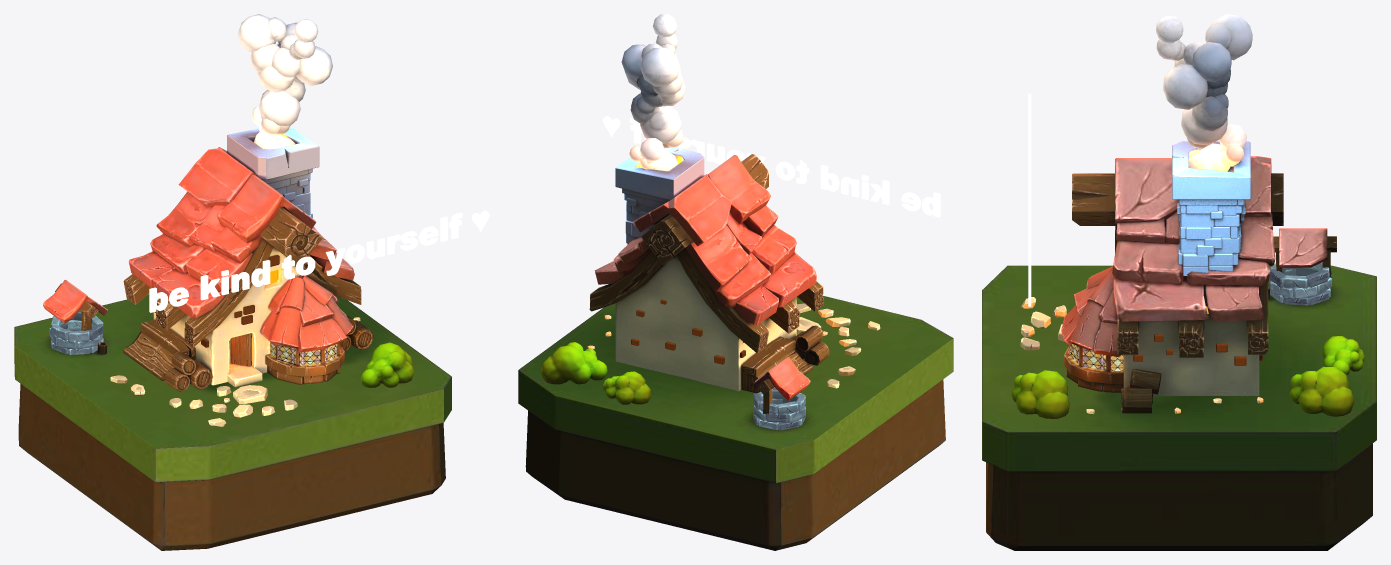
The model's file is cottagetext.glb.
3 views of the same model, side by side, from view 1: azimuth 30°, elevation 25°; view 2: azimuth 150°, elevation 25°; view 3: azimuth 270°, elevation 25° (orthographic). The views are drawn at different scales.
Visible parts, largest first — view 1: Plane, Plane.001, Cube.016, Cube.039, skla a dym_mergedObject.002, Cube.024, Text, Cube.100, Sphere.001, Cube.229, Plane.003; view 2: Plane, Plane.001, Cube.016, Cube.024, Cube.039, skla a dym_mergedObject.002, Cube.100, Text, Sphere.001, Cube.229; view 3: Plane, Plane.001, Cube.016, skla a dym_mergedObject.002, Cube.039, Cube.024, Cube.100, Sphere.001, Cube.229, Text, Plane.003.
Boxes of the visible parts, left/top/right/bottom form: Plane: left=14, top=294, right=451, bottom=482; Plane.001: left=18, top=383, right=445, bottom=550; Cube.016: left=43, top=147, right=354, bottom=352; Cube.039: left=55, top=207, right=373, bottom=391; skla a dym_mergedObject.002: left=238, top=14, right=332, bottom=149; Cube.024: left=110, top=247, right=360, bottom=426; Text: left=149, top=210, right=489, bottom=312; Cube.100: left=227, top=126, right=319, bottom=218; Sphere.001: left=360, top=342, right=413, bottom=387; Cube.229: left=49, top=310, right=103, bottom=354; Plane.003: left=270, top=342, right=337, bottom=365; Plane: left=518, top=295, right=953, bottom=483; Plane.001: left=525, top=379, right=945, bottom=550; Cube.016: left=594, top=155, right=816, bottom=400; Cube.024: left=587, top=222, right=880, bottom=391; Cube.039: left=589, top=154, right=829, bottom=414; skla a dym_mergedObject.002: left=621, top=14, right=685, bottom=171; Cube.100: left=615, top=147, right=704, bottom=244; Text: left=603, top=116, right=940, bottom=217; Sphere.001: left=541, top=342, right=651, bottom=404; Cube.229: left=753, top=387, right=805, bottom=430; Plane: left=982, top=265, right=1376, bottom=471; Plane.001: left=986, top=443, right=1372, bottom=550; Cube.016: left=1061, top=156, right=1327, bottom=356; skla a dym_mergedObject.002: left=1156, top=14, right=1252, bottom=171; Cube.039: left=1064, top=173, right=1336, bottom=413; Cube.024: left=1020, top=220, right=1263, bottom=414; Cube.100: left=1172, top=141, right=1250, bottom=276; Sphere.001: left=1011, top=336, right=1364, bottom=418; Cube.229: left=1269, top=262, right=1332, bottom=305; Text: left=1028, top=93, right=1031, bottom=306; Plane.003: left=1069, top=344, right=1123, bottom=370.
Size of the model in its own units: 1.16 by 1.4 by 1.01.
10 materials, 8 textured.
